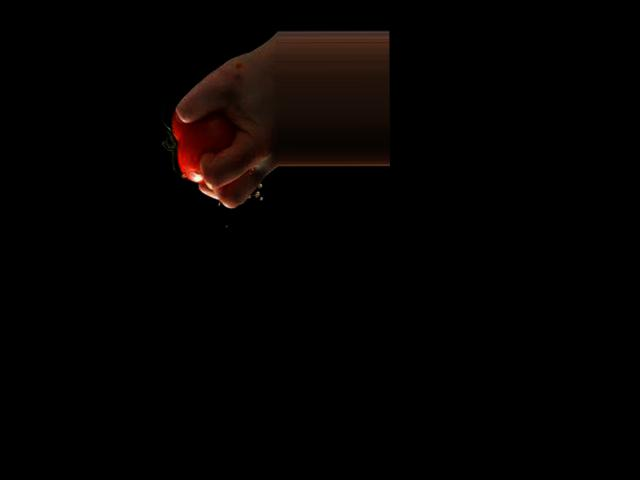tomato: (171, 109, 236, 182)
